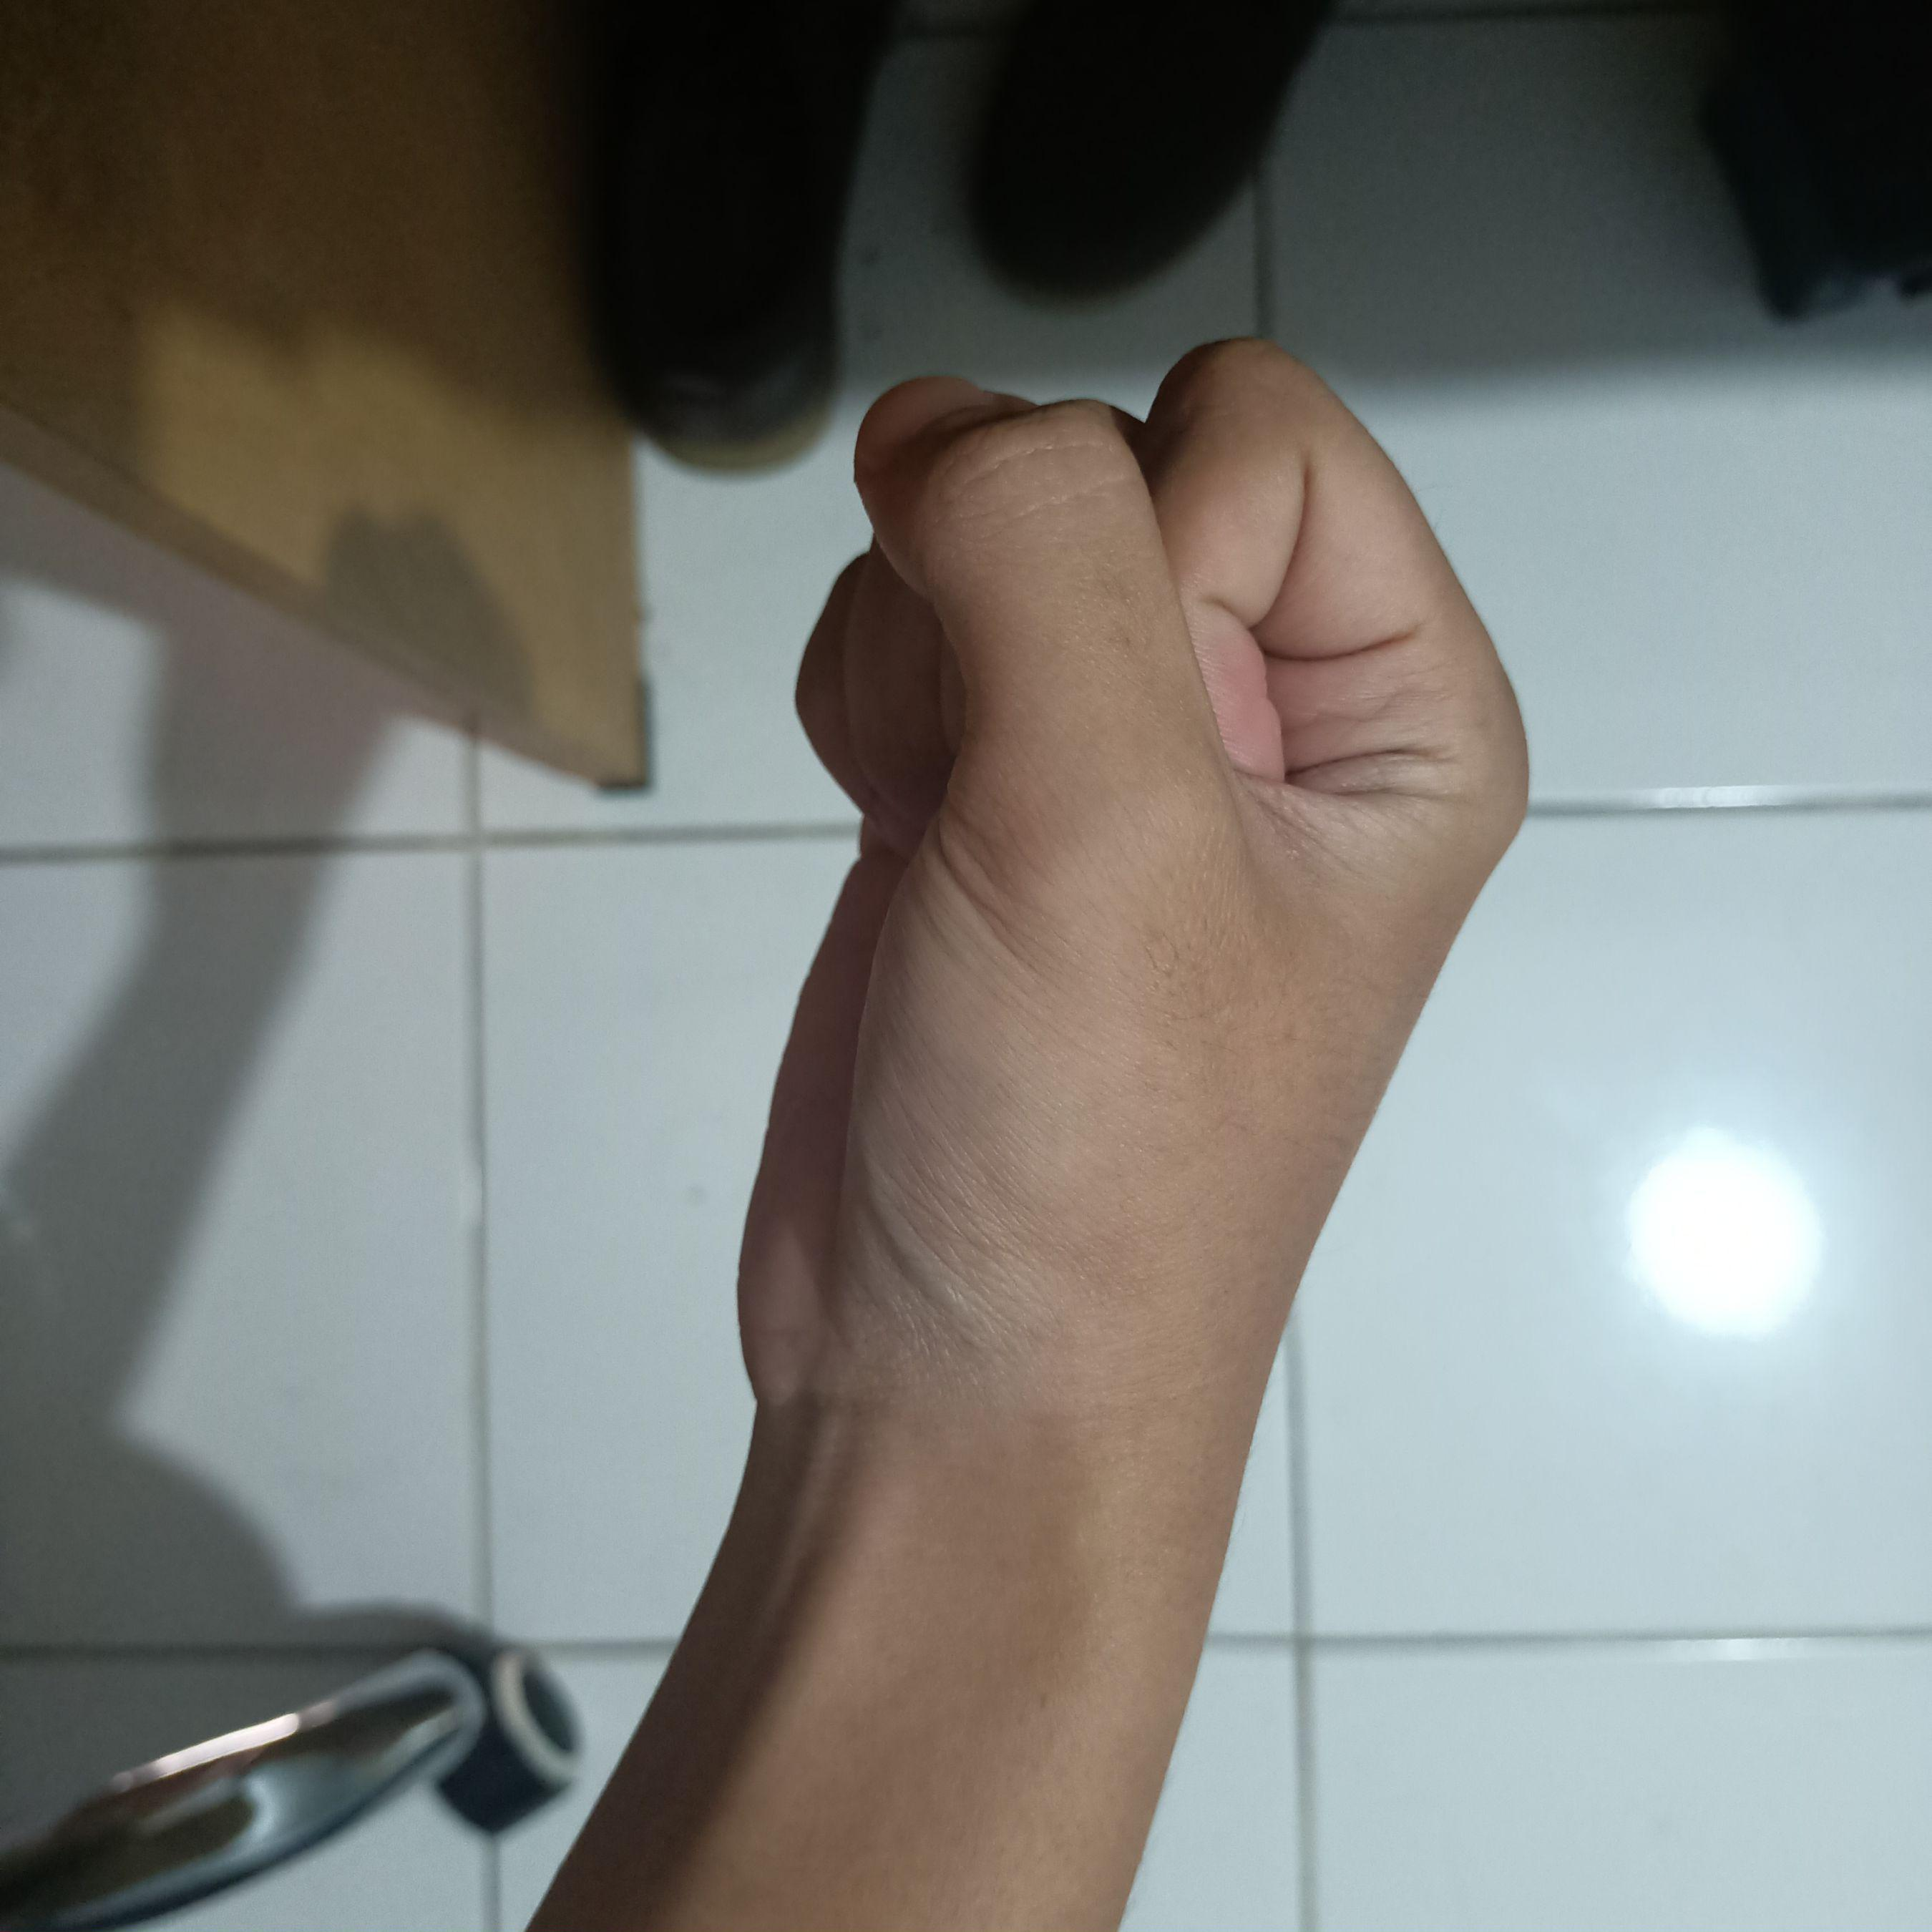rock: (732, 313, 1568, 1477)
